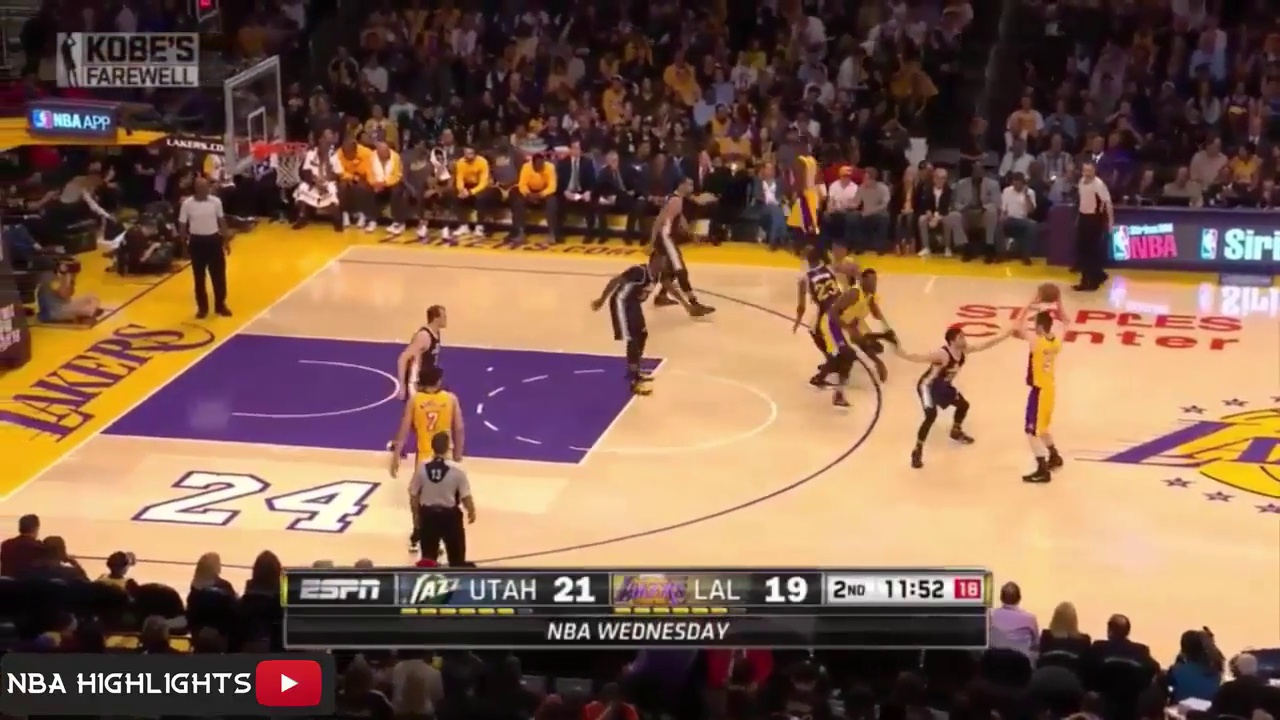jazz: (895, 309, 1015, 473), (645, 174, 715, 315), (609, 249, 669, 392), (401, 301, 457, 389), (793, 250, 837, 338)
lakers: (1015, 271, 1070, 485), (820, 267, 894, 405), (394, 365, 473, 460), (831, 239, 889, 337), (783, 139, 828, 258)
